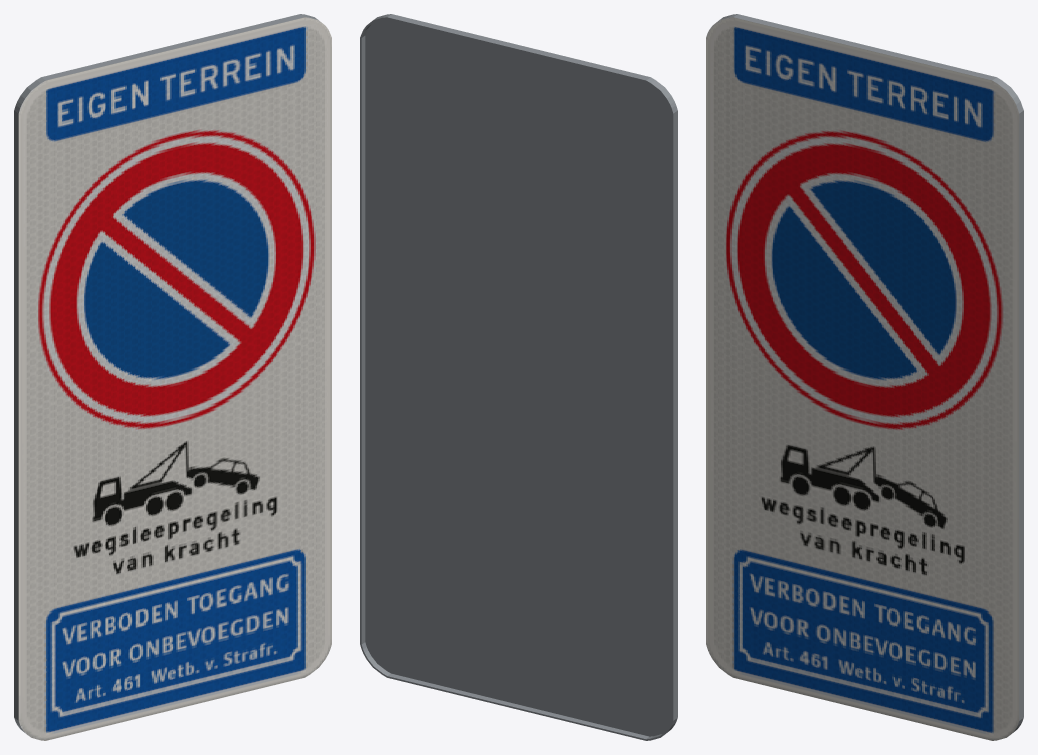
The picture shows the model from 3 angles, left to right: view 1: azimuth 30°, elevation 25°; view 2: azimuth 150°, elevation 25°; view 3: azimuth 330°, elevation 25°; orthographic projection.
Parts seen in each view (by area): view 1: cat_66e2d6164eadf699; view 2: cat_66e2d6164eadf699; view 3: cat_66e2d6164eadf699.
Part boxes in pixels (bbox=[...]): cat_66e2d6164eadf699: bbox=[14, 14, 331, 740]; cat_66e2d6164eadf699: bbox=[360, 14, 677, 740]; cat_66e2d6164eadf699: bbox=[706, 14, 1023, 740].
Bounding box in the file's own units: 0.6 × 0.015 × 1.21.
Materials: 2 (1 with a texture image).
